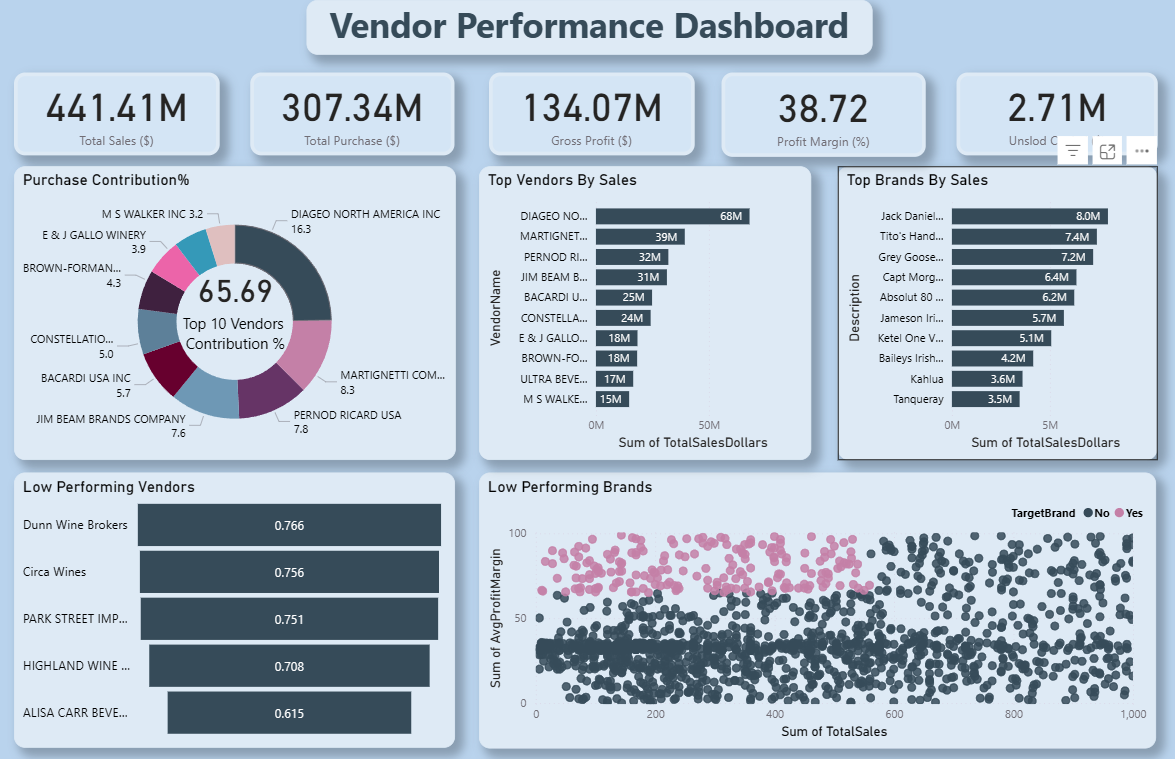

The dashboard page shown, as its layout file describes it:
{"tool":"powerbi","page":{"name":"Page 1","canvas":[1280,820],"ordinal":0},"visuals":[{"type":"card","fields":{"Values":["Sum(vendor_sales_summary.TotalSalesDollars)"]},"box":[16.2,77.9,222.1,89.7],"z":0},{"type":"card","fields":{"Values":["Sum(vendor_sales_summary.UnslodCapital)"]},"box":[1035.3,77.9,217.6,89.7],"z":2000},{"type":"donutChart","title":"Purchase Contribution%","fields":{"Category":["PurchaseContribution.VendorName"],"Y":["Sum(PurchaseContribution.PurchaseContribution%)"]},"box":[16.2,179.4,477.9,317.6],"z":5000,"group":"g1"},{"type":"barChart","title":"Top Brands By Sales","fields":{"Category":["vendor_sales_summary.Description"],"Y":["Sum(vendor_sales_summary.TotalSalesDollars)"]},"box":[907.4,179.4,345.6,317.6],"z":6000},{"type":"scatterChart","title":"Low Performing Brands","fields":{"Category":["BrandPerformance.Description"],"X":["Sum(BrandPerformance.TotalSales)"],"Y":["Sum(BrandPerformance.AvgProfitMargin)"],"Series":["BrandPerformance.TargetBrand"]},"box":[519.1,510.3,732.4,298.5],"z":7000},{"type":"textbox","box":[332.4,0,611.8,58.8],"z":9000},{"type":"card","fields":{"Values":["Avg(vendor_sales_summary.ProfitMargin)"]},"box":[780.9,77.9,220.6,91.2],"z":9375},{"type":"card","fields":{"Values":["Sum(vendor_sales_summary.GrossProfit)"]},"box":[529.4,77.9,222.1,89.7],"z":9750},{"type":"barChart","title":"Top Vendors By Sales","fields":{"Category":["vendor_sales_summary.VendorName"],"Y":["Sum(vendor_sales_summary.TotalSalesDollars)"]},"box":[519.1,179.4,358.8,317.6],"z":10125},{"type":"card","fields":{"Values":["Sum(vendor_sales_summary.TotalPurchaseDollars)"]},"box":[272.1,77.9,220.6,89.7],"z":10500},{"type":"group","id":"g1","title":"Group 1","box":[16.2,179.4,477.9,317.6],"z":10750},{"type":"card","fields":{"Values":["Sum(PurchaseContribution.PurchaseContribution%)"]},"box":[170,244.3,170,155.7],"z":11001,"group":"g1"},{"type":"funnel","title":"Low Performing Vendors","fields":{"Category":["LowTurnoverVendor.VendorName"],"Y":["Avg(LowTurnoverVendor.AvgStockTurnOver)"]},"box":[16.7,510.4,477.1,297.9],"z":14500}]}

Visuals, with their boxes in screenshot pixels (x1, y1, x2, y2), scaled from the page's 1280x820 canvas onto the 1175x759 screenshot:
card - Sum(vendor_sales_summary.TotalSalesDollars): detection(15, 72, 219, 155)
card - Sum(vendor_sales_summary.UnslodCapital): detection(950, 72, 1150, 155)
"Purchase Contribution%" donutChart: detection(15, 166, 454, 460)
"Top Brands By Sales" barChart: detection(833, 166, 1150, 460)
"Low Performing Brands" scatterChart: detection(477, 472, 1149, 749)
textbox: detection(305, 0, 867, 54)
card - Avg(vendor_sales_summary.ProfitMargin): detection(717, 72, 919, 157)
card - Sum(vendor_sales_summary.GrossProfit): detection(486, 72, 690, 155)
"Top Vendors By Sales" barChart: detection(477, 166, 806, 460)
card - Sum(vendor_sales_summary.TotalPurchaseDollars): detection(250, 72, 452, 155)
"Group 1" group: detection(15, 166, 454, 460)
card - Sum(PurchaseContribution.PurchaseContribution%): detection(156, 226, 312, 370)
"Low Performing Vendors" funnel: detection(15, 472, 453, 748)
